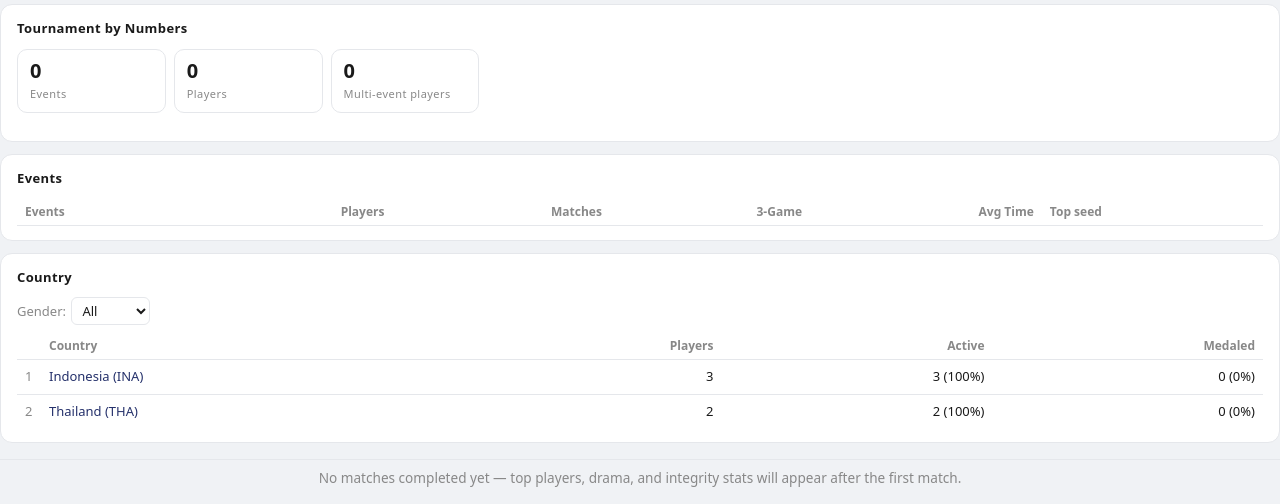
Test case: TournamentStatsPanel — country roster controls › filters the roster by the gender dropdown, recomputing counts
Step 1. Select "Male" in the dropdown → (111, 311), box [71,297,150,325]
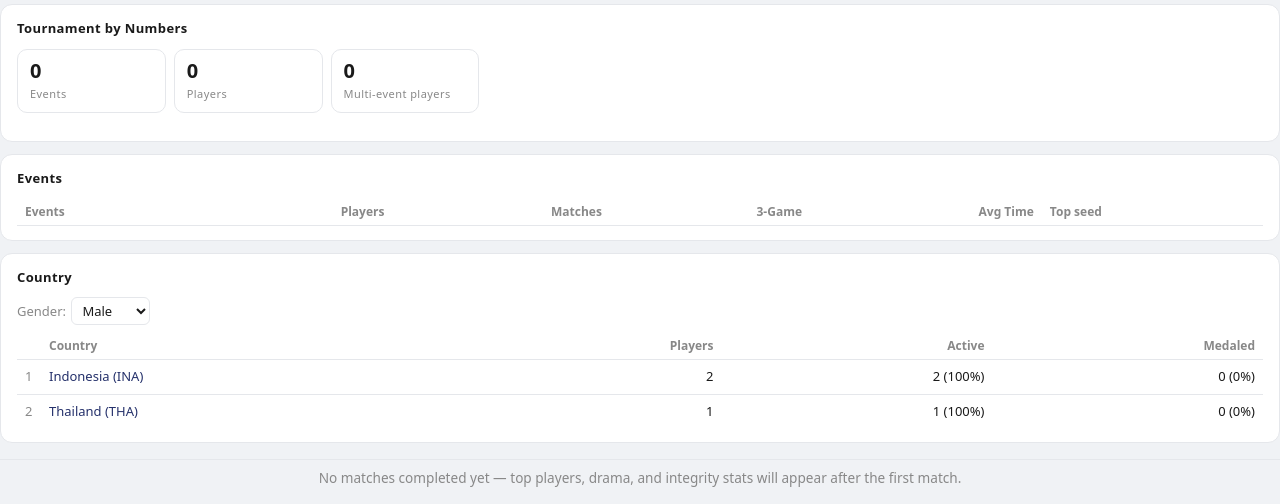
Expected: the text "2" is shown, [706,367,714,386]
